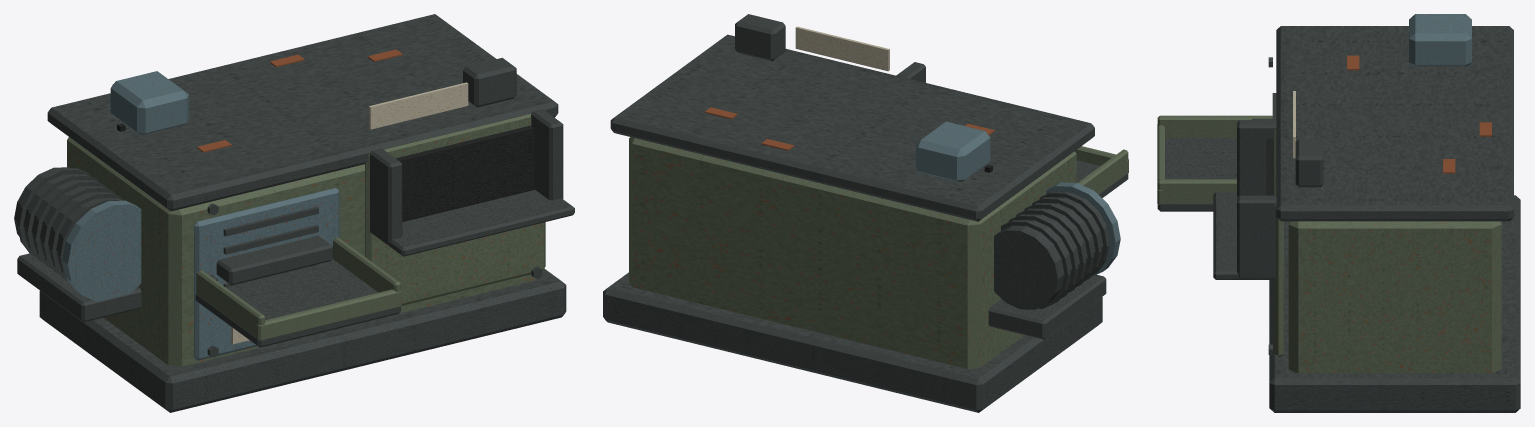
Rendered from PoweredStripper.fbx.
The picture shows the model from 3 angles, left to right: view 1: azimuth 30°, elevation 25°; view 2: azimuth 150°, elevation 25°; view 3: azimuth 270°, elevation 25°; orthographic projection. The views are drawn at different scales.
Parts seen in each view (by area): view 1: PoweredStripper; view 2: PoweredStripper; view 3: PoweredStripper.
Boxes of the visible parts, x1=… form: PoweredStripper: x1=14, y1=14, x2=574, y2=412; PoweredStripper: x1=603, y1=14, x2=1128, y2=412; PoweredStripper: x1=1157, y1=14, x2=1520, y2=412.
Size of the model in its own units: 291 by 153 by 208.
Materials: 1 (1 with a texture image).
